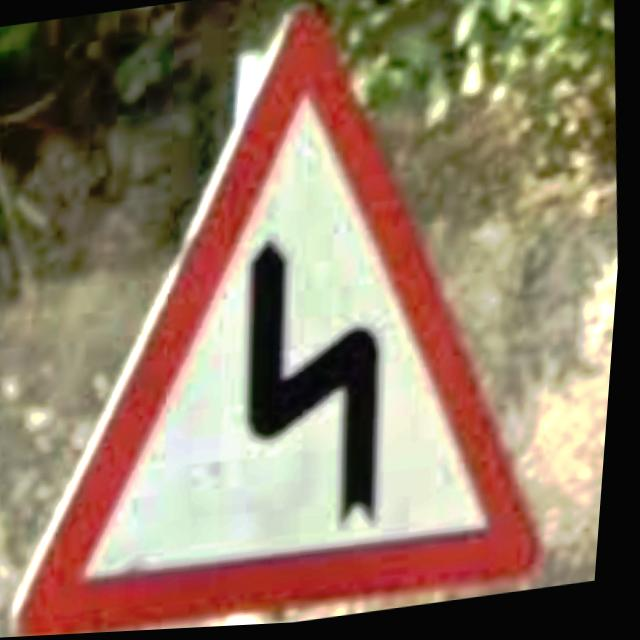doublebendleft: (22, 9, 553, 637)
